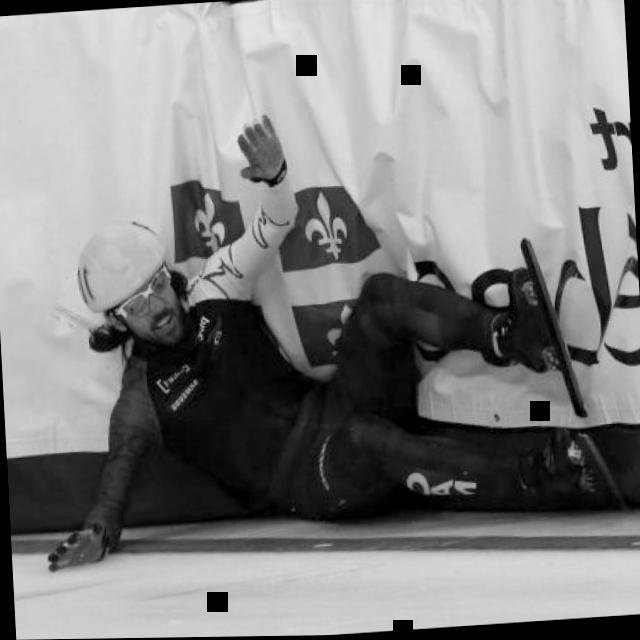Fall-Detected: (58, 59, 640, 581)
